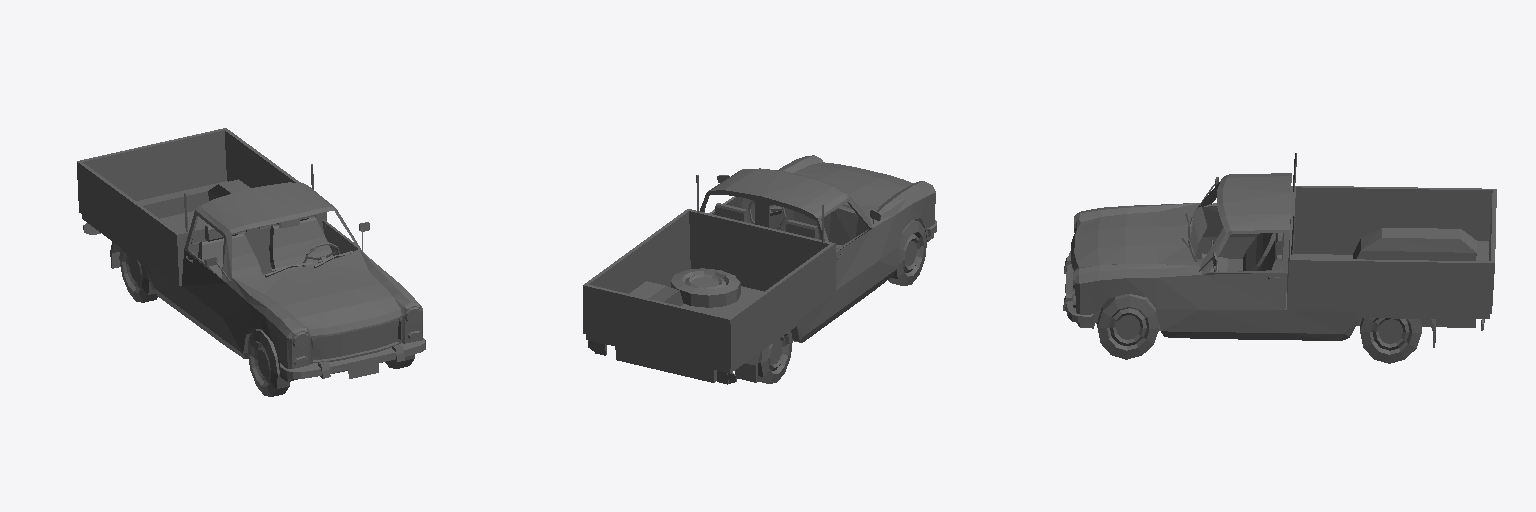
File: car_2.obj
The picture shows the model from 3 angles: view 1: azimuth 30°, elevation 25°; view 2: azimuth 150°, elevation 25°; view 3: azimuth 270°, elevation 25°; orthographic projection.
Visible parts, largest first — view 1: DrawCall11; view 2: DrawCall11; view 3: DrawCall11.
Part boxes in pixels (x1,y1,x2,y2): DrawCall11: (77,128,425,396); DrawCall11: (583,155,936,384); DrawCall11: (1063,153,1496,363).
Bounding box in the file's own units: 1.72 × 1.44 × 3.92.